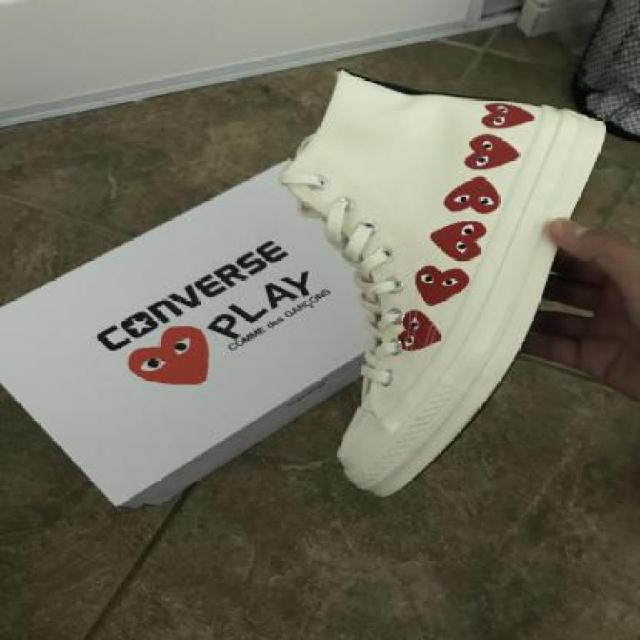shoe: (283, 70, 608, 498)
